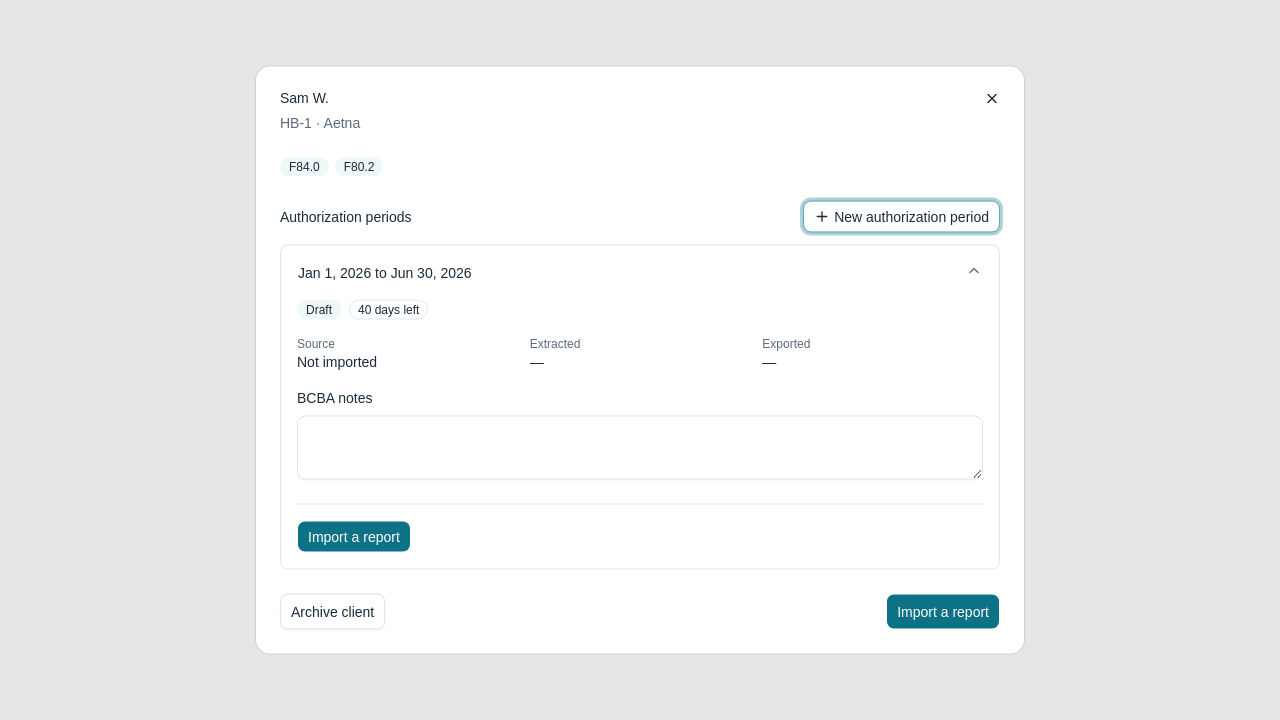
it: ClientDetailDialog › creates a new period, dates prefilled, and shows it open at the top
Click the button "New authorization period" at {"x": 902, "y": 216}, box [803,200,1000,232]
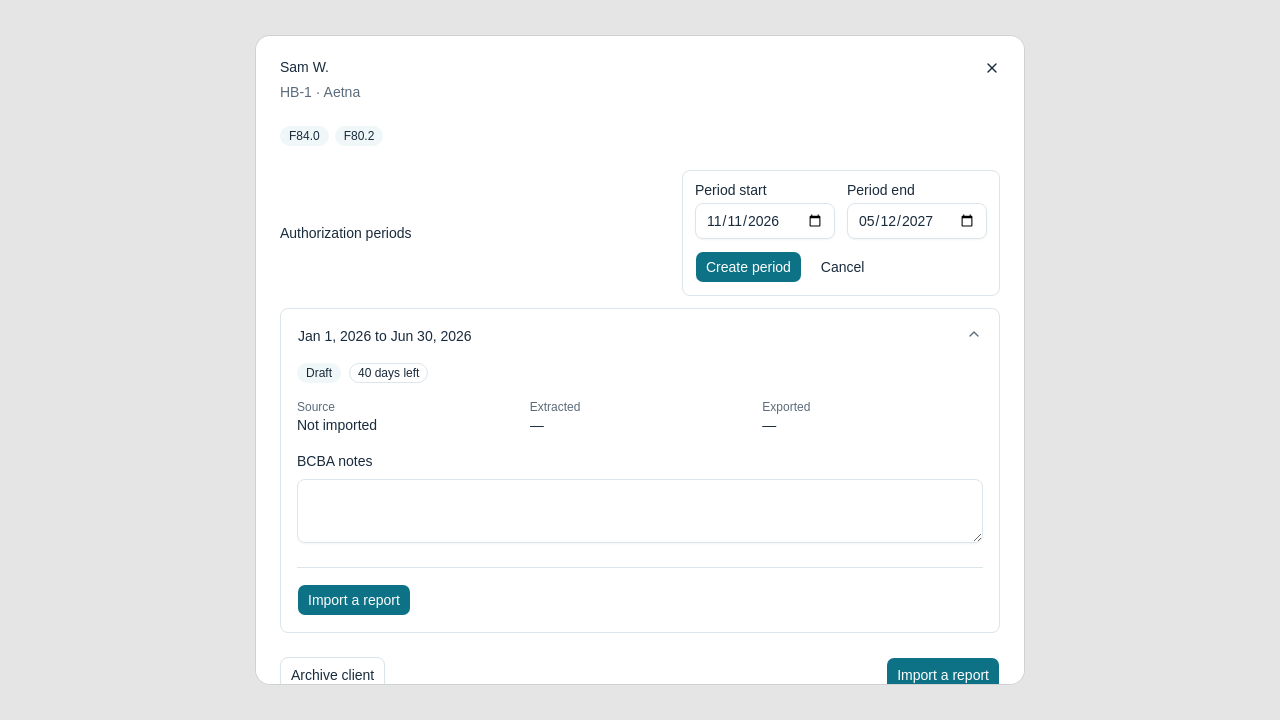
Type "2027-01-01" into the date field labelled "Period start" at {"x": 765, "y": 221}, box [695,203,835,239]
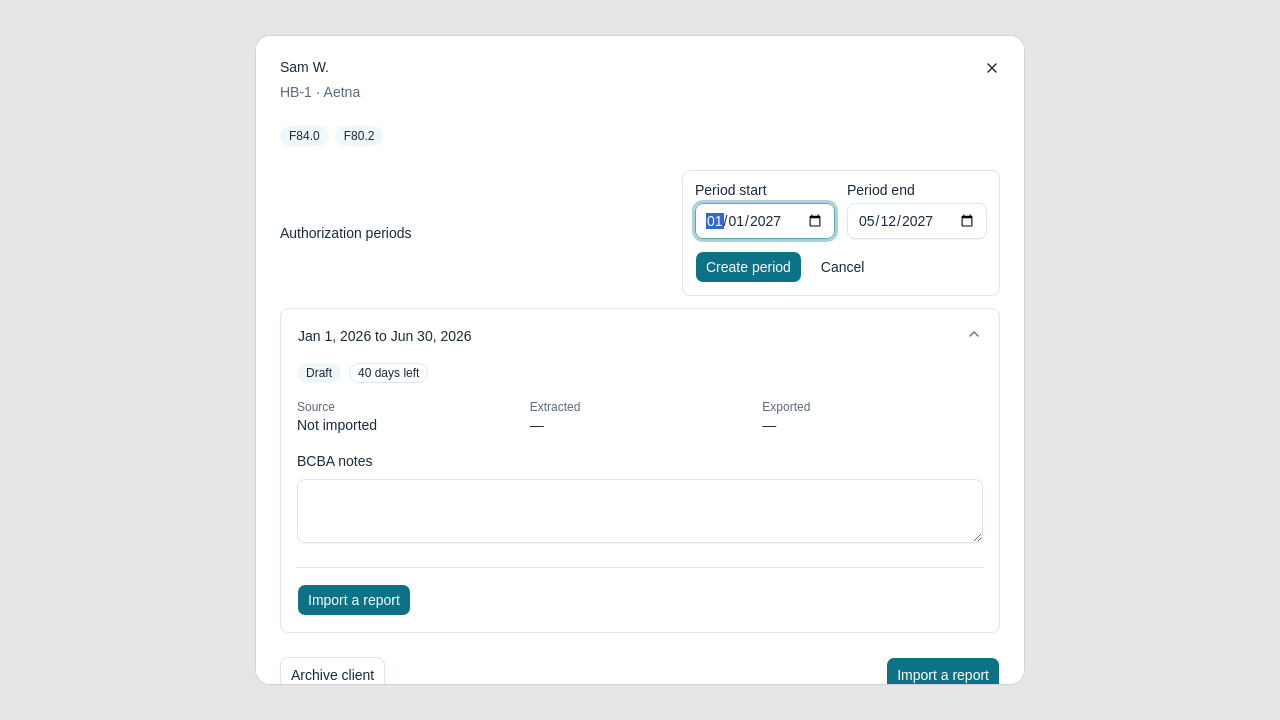
Type "2027-06-30" into the date field labelled "Period end" at {"x": 917, "y": 221}, box [847,203,987,239]
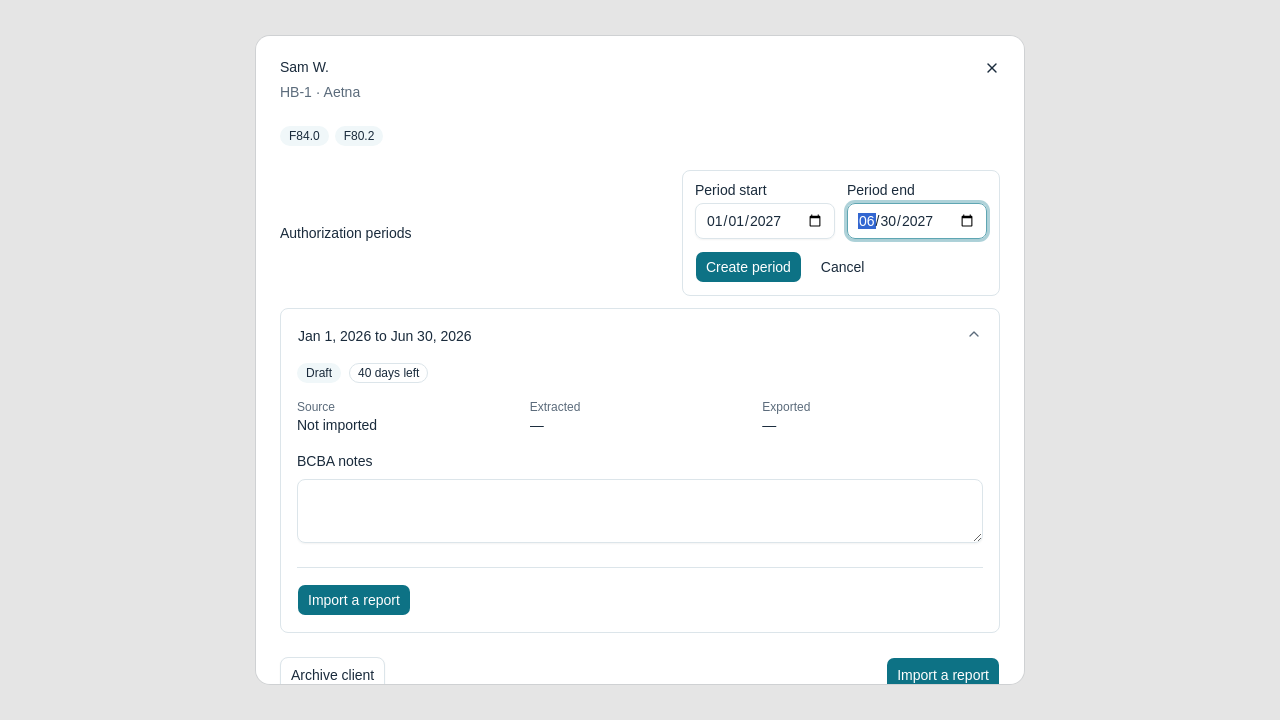
Click the button "Create period" at {"x": 748, "y": 267}, box [695,251,802,283]
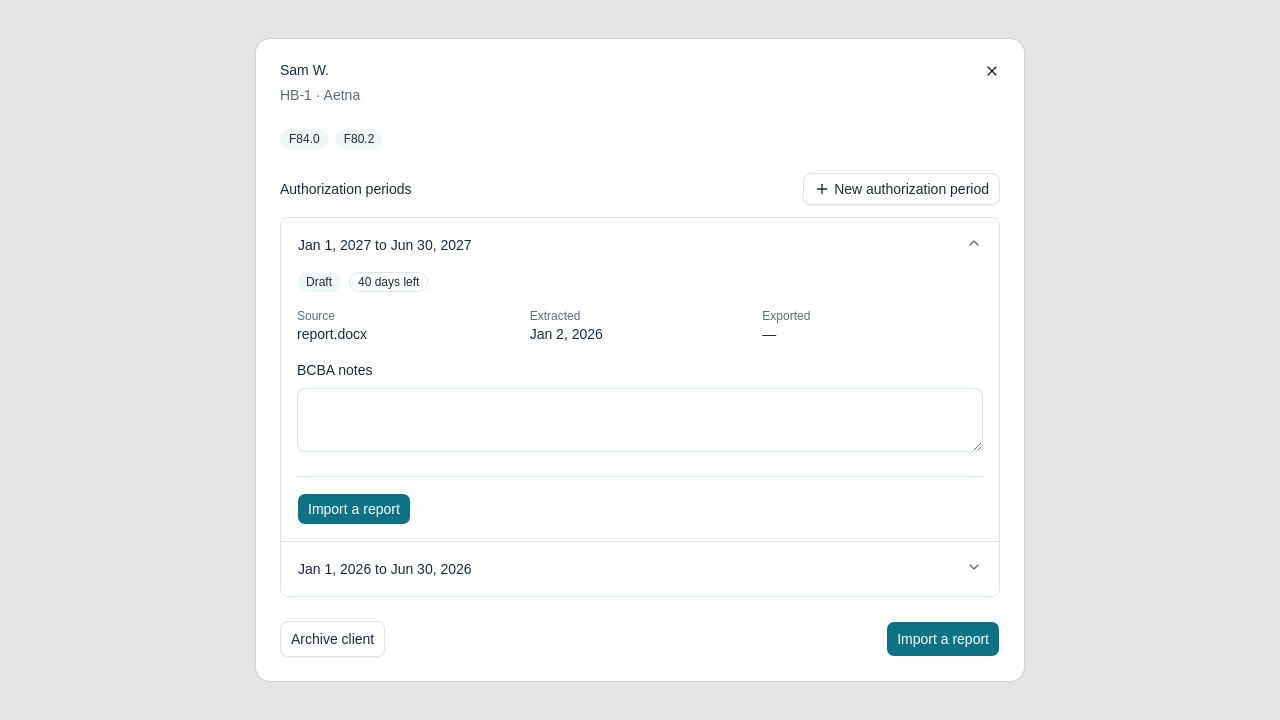
expect the label labelled "Period start" is gone: met
